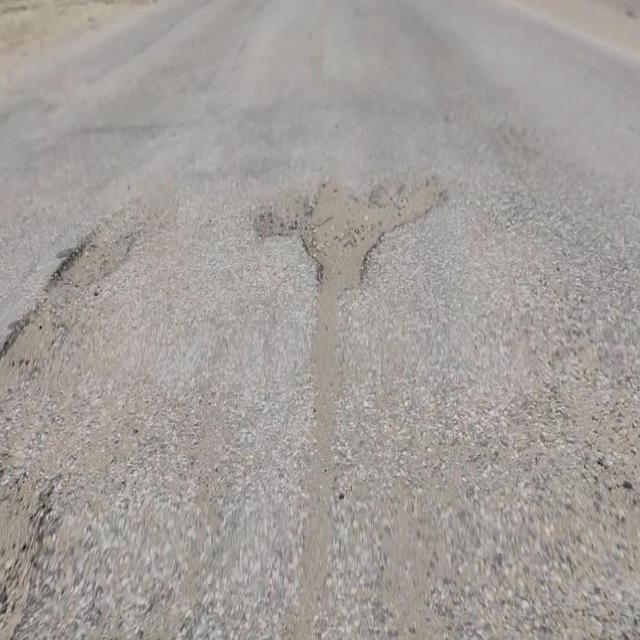Potholes: (253, 173, 444, 296), (46, 230, 132, 290)
